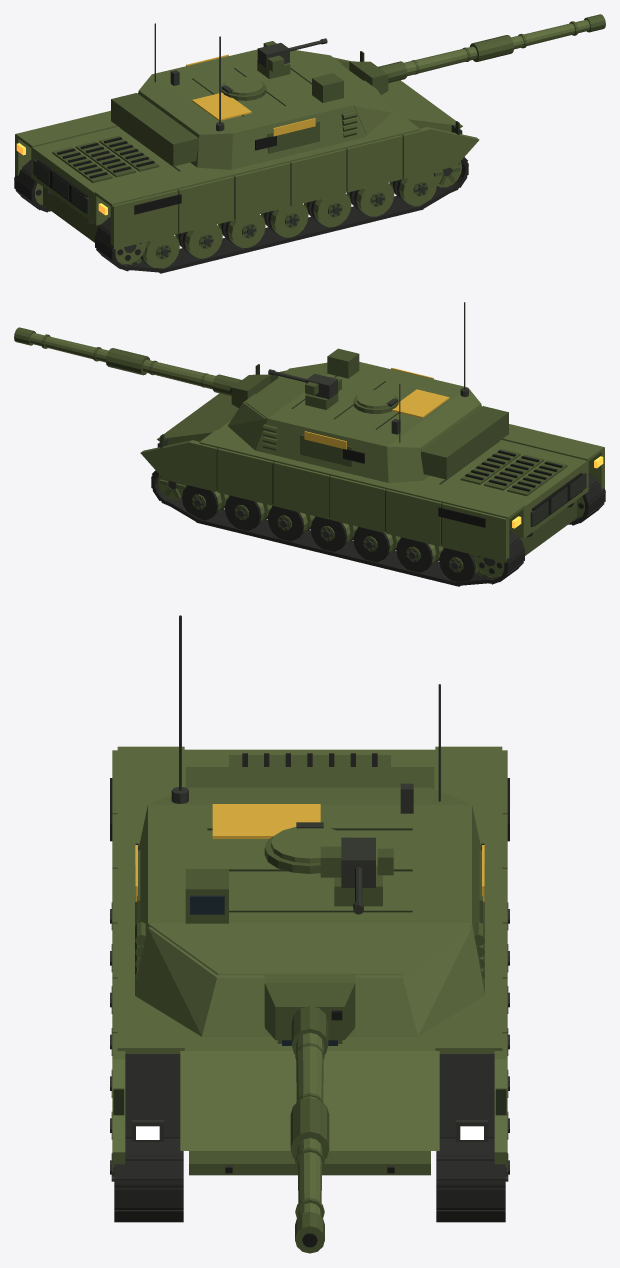
Rendered from tank.glb.
3 renders of one model, top to bottom at view 1: azimuth 30°, elevation 25°; view 2: azimuth 150°, elevation 25°; view 3: azimuth 270°, elevation 25°, orthographic. The views are drawn at different scales.
Parts seen in each view (by area): view 1: Hull, Turret, TrackA, Barrel, TrackB, TeamColor, Wheel_R1_r0.36, Wheel_R3_r0.36, Wheel_R5_r0.36, Wheel_R4_r0.36, Wheel_R6_r0.36, Wheel_R2_r0.36 (+3 smaller); view 2: Hull, Turret, Barrel, TrackA, TrackB, TeamColor, Wheel_L4_r0.36, Wheel_L3_r0.36, Wheel_L5_r0.36, Wheel_L2_r0.36, Wheel_L1_r0.36, Wheel_L6_r0.36 (+3 smaller); view 3: Turret, Hull, TrackB, TrackA, Barrel, TeamColor.
Part boxes in pixels (box(x1,y1,x2,y2)): Hull: box(15, 51, 479, 249); Turret: box(111, 23, 392, 169); TrackA: box(14, 159, 468, 273); Barrel: box(378, 14, 605, 82); TrackB: box(14, 157, 468, 272); TeamColor: box(186, 54, 315, 136); Wheel_R1_r0.36: box(175, 224, 222, 258); Wheel_R3_r0.36: box(261, 203, 308, 237); Wheel_R5_r0.36: box(346, 183, 394, 216); Wheel_R4_r0.36: box(303, 193, 351, 227); Wheel_R6_r0.36: box(389, 172, 436, 206); Wheel_R2_r0.36: box(218, 214, 265, 248); Hull: box(140, 364, 604, 562); Turret: box(227, 302, 508, 482); Barrel: box(14, 327, 241, 396); TrackA: box(151, 470, 605, 586); TrackB: box(151, 471, 605, 585); TeamColor: box(304, 368, 449, 449); Wheel_L4_r0.36: box(267, 506, 316, 541); Wheel_L3_r0.36: box(310, 516, 358, 551); Wheel_L5_r0.36: box(224, 495, 273, 530); Wheel_L2_r0.36: box(353, 527, 401, 562); Wheel_L1_r0.36: box(396, 537, 444, 572); Wheel_L6_r0.36: box(182, 485, 230, 520); Turret: box(135, 615, 484, 1040); Hull: box(110, 746, 509, 1175); TrackB: box(114, 1054, 505, 1222); TrackA: box(114, 1054, 505, 1215); Barrel: box(290, 1006, 329, 1253); TeamColor: box(135, 804, 484, 901).
Bounding box in the file's own units: 11.6 × 4.22 × 3.7.
